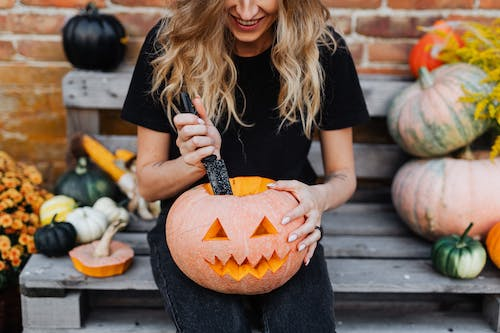knife: (178, 89, 233, 196)
